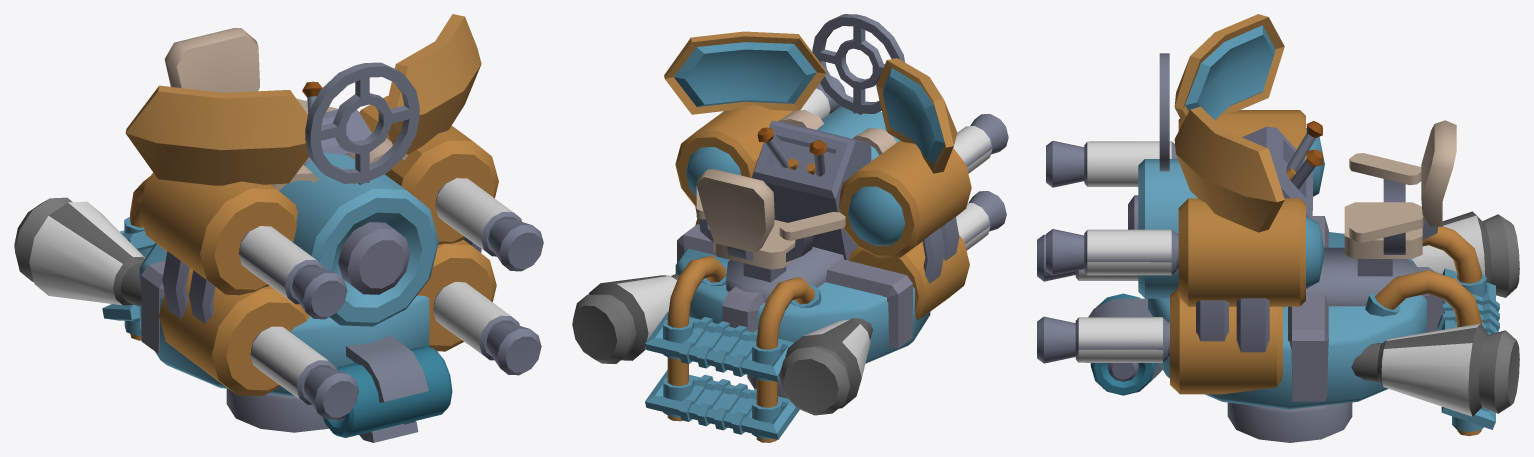
Rendered from Sniper_2_LP.fbx.
The picture shows the model from 3 angles, left to right: view 1: azimuth 30°, elevation 25°; view 2: azimuth 150°, elevation 25°; view 3: azimuth 270°, elevation 25°; orthographic projection. The views are drawn at different scales.
Visible parts, largest first — view 1: Sniper_2_Base; view 2: Sniper_2_Base, Sniper_2; view 3: Sniper_2_Base, Sniper_2.
Part boxes in pixels (x1,y1,x2,y2): Sniper_2_Base: (14, 14, 543, 442); Sniper_2_Base: (572, 14, 1008, 442); Sniper_2: (757, 127, 826, 176); Sniper_2_Base: (1037, 14, 1519, 442); Sniper_2: (1286, 121, 1322, 189).
Bounding box in the file's own units: 124 × 131 × 160.
